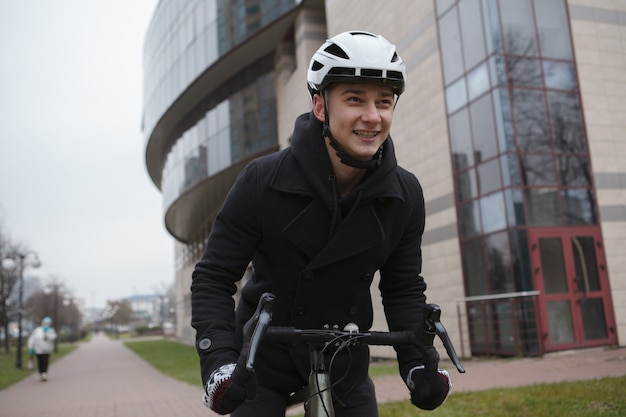helmet: (307, 31, 406, 157)
